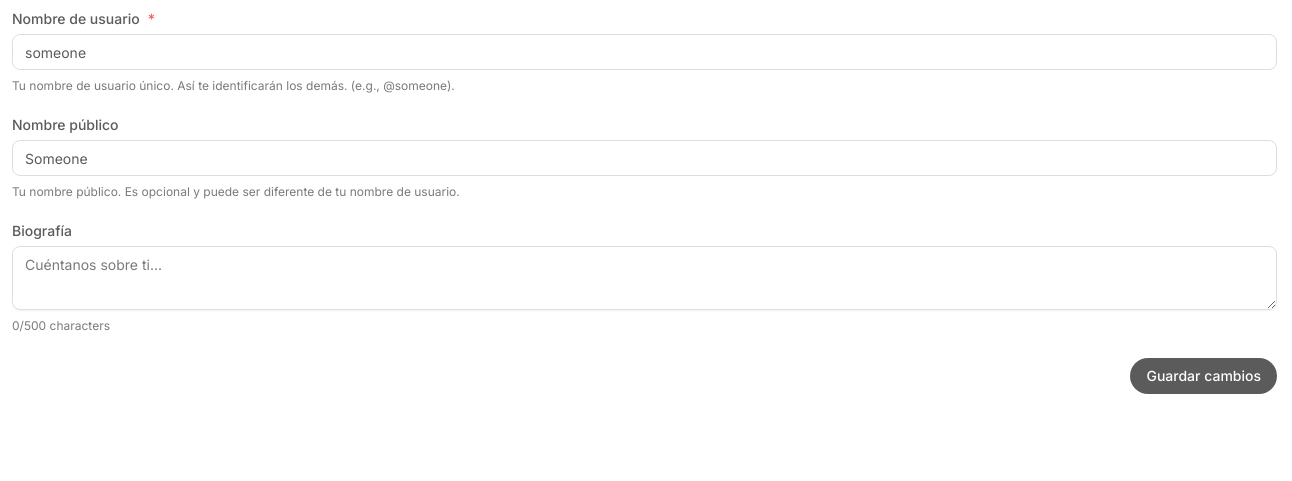
Test: ProfileForm submit error handling (T-241) › still shows a banner for a real failure
Click the button "Guardar cambios": (1204, 376) left=1130, top=358, right=1277, bottom=394
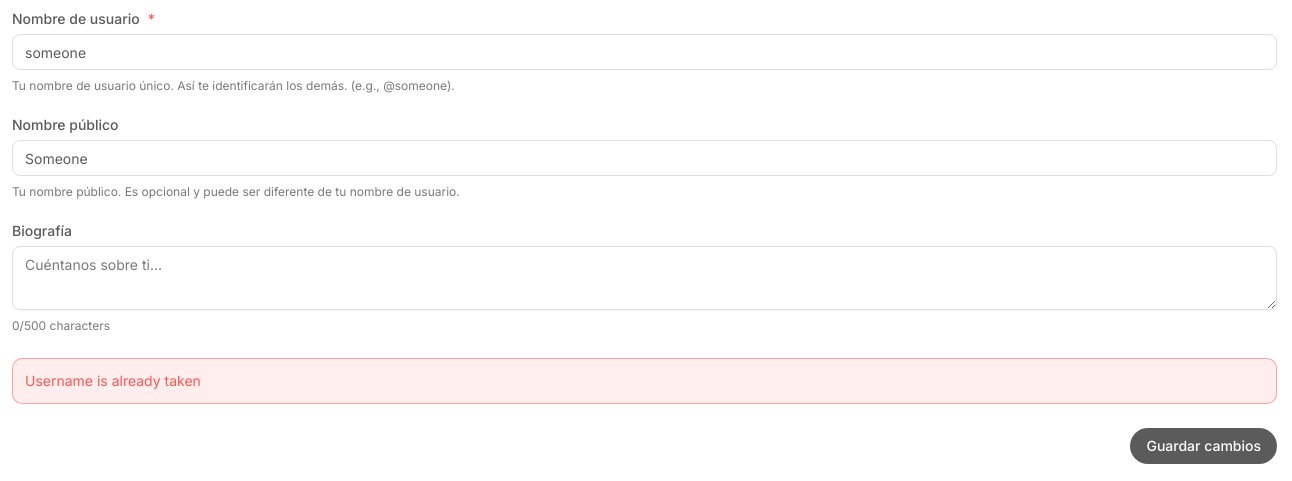
expect the text "Username is already taken" is shown: met, box left=25, top=372, right=201, bottom=389
